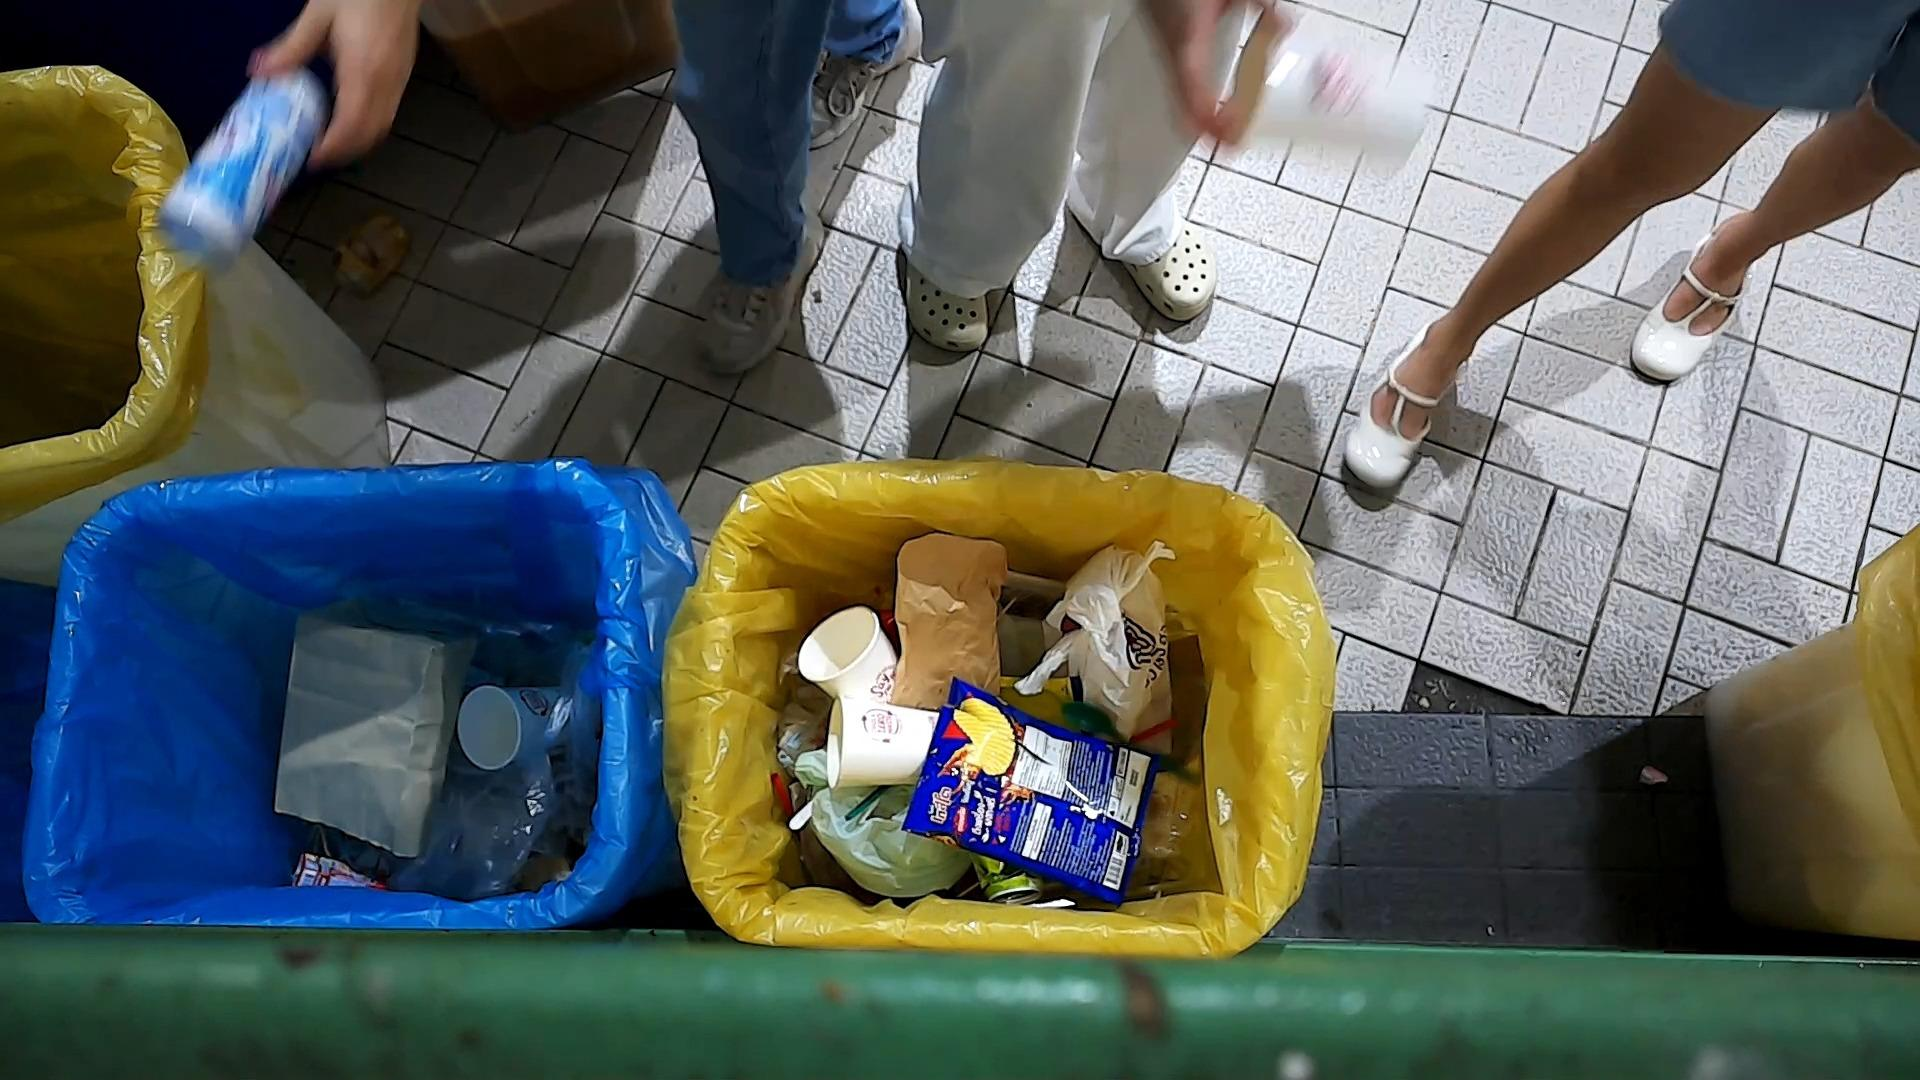can: (148, 50, 338, 284)
filled plastic bag: (1013, 535, 1183, 738), (790, 731, 975, 902)
milk carton: (289, 843, 394, 891)
paper bag: (274, 585, 492, 858), (889, 530, 1011, 716)
plastic bag: (398, 735, 570, 905)
plastic cutlery: (1058, 698, 1205, 791)
snack packaging: (899, 674, 1167, 916), (994, 673, 1085, 732)
zero waste cup: (1212, 0, 1448, 181), (820, 691, 943, 796), (451, 680, 575, 777), (795, 603, 899, 707)
